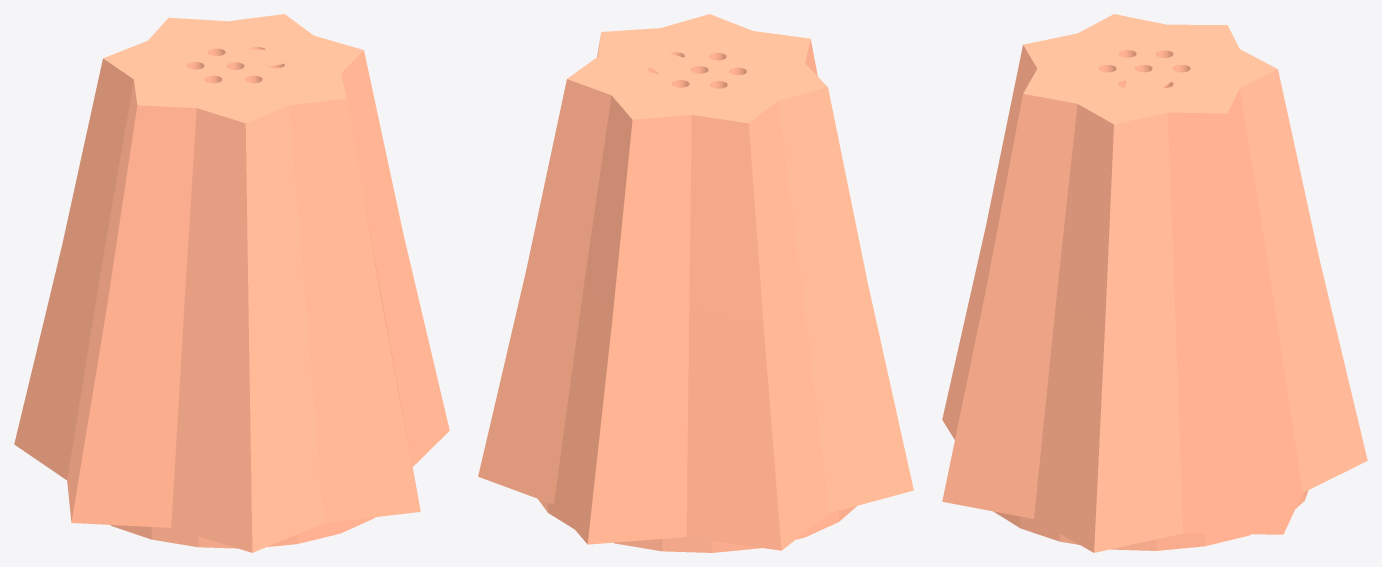
File: Pepper shaker.fbx
3 renders of one model, left to right at view 1: azimuth 30°, elevation 25°; view 2: azimuth 150°, elevation 25°; view 3: azimuth 270°, elevation 25°, orthographic.
Parts seen in each view (by area): view 1: Cylinder; view 2: Cylinder; view 3: Cylinder.
Part boxes in pixels (x1,y1,x2,y2): Cylinder: (14, 14, 449, 552); Cylinder: (478, 14, 913, 552); Cylinder: (942, 14, 1367, 552).
Size of the model in its own units: 2.49 by 2.59 by 2.42.
